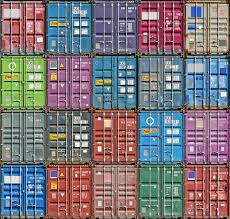container_door: (46, 164, 94, 219), (93, 163, 139, 218), (140, 164, 185, 219), (92, 56, 138, 109), (138, 1, 183, 55), (140, 55, 185, 109), (184, 53, 228, 108), (92, 111, 138, 163), (183, 1, 229, 52), (1, 57, 47, 108), (47, 3, 92, 55), (48, 56, 92, 109), (1, 165, 45, 218), (186, 164, 229, 218), (1, 111, 47, 161), (46, 112, 91, 163), (140, 112, 185, 163), (93, 2, 137, 54), (1, 3, 45, 54), (186, 111, 228, 164)
